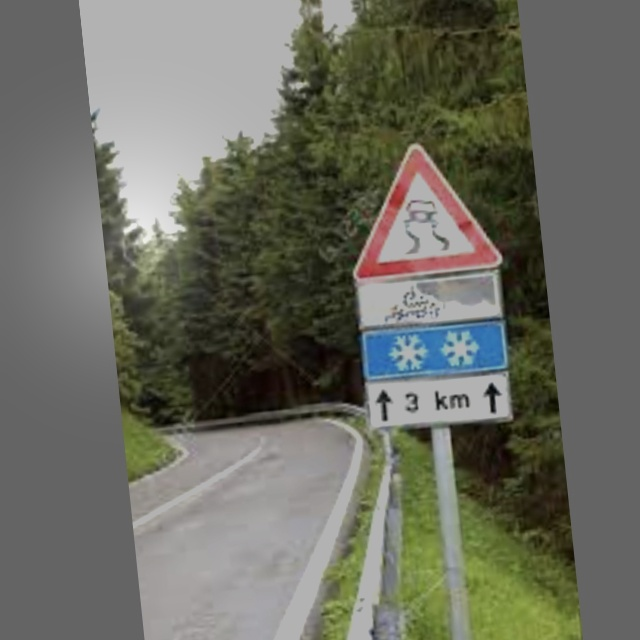Slippery_Road: (346, 135, 503, 280)
